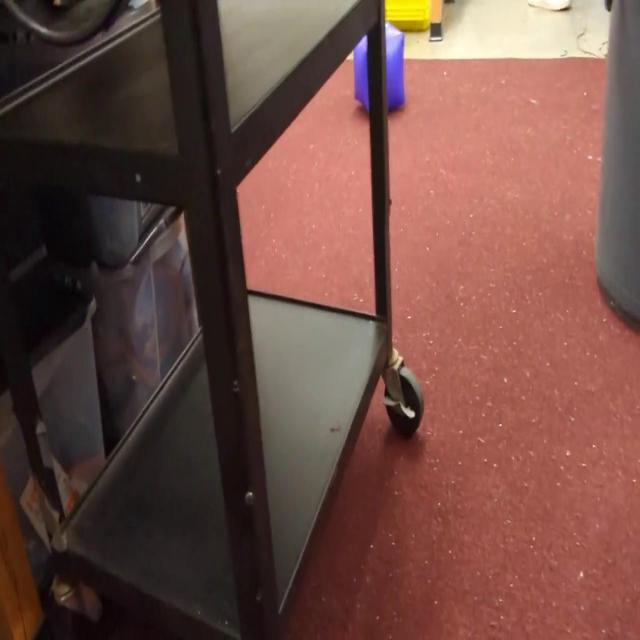frc_cube: (354, 20, 406, 114)
